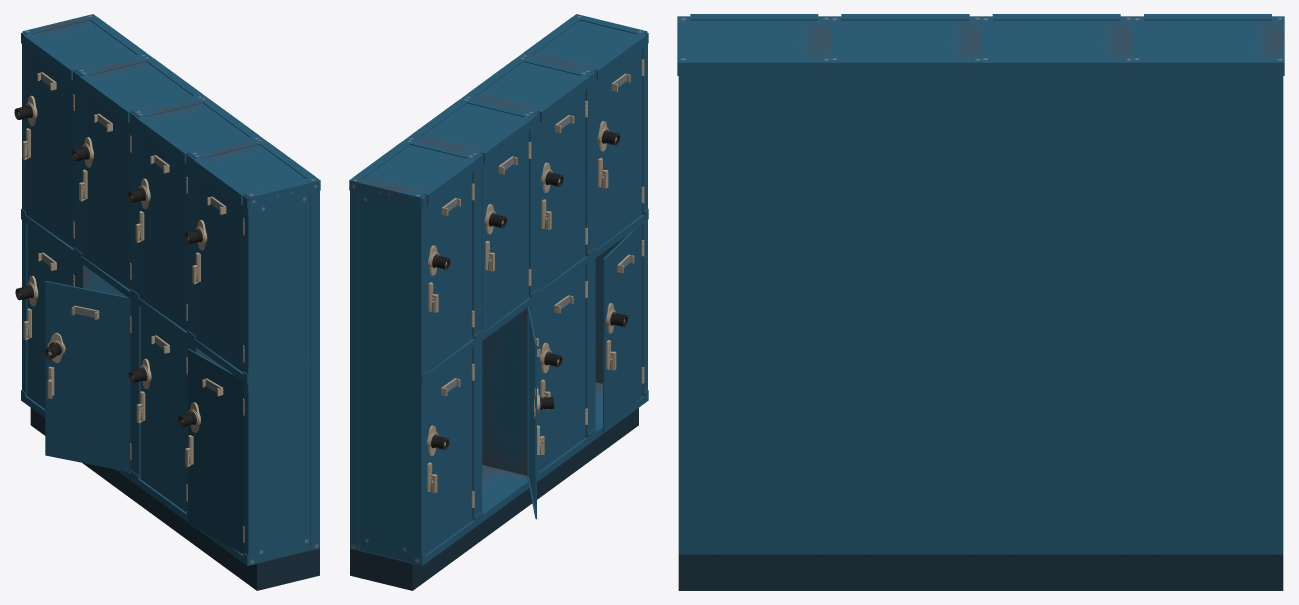
File: optimized_lockers.glb
The picture shows the model from 3 angles, left to right: view 1: azimuth 30°, elevation 25°; view 2: azimuth 150°, elevation 25°; view 3: azimuth 270°, elevation 25°; orthographic projection. The views are drawn at different scales.
Parts seen in each view (by area): view 1: Cube.109, Cylinder.022, Cylinder.036, Cylinder.017, Cylinder.029, Cylinder.005, Cube.092, Cube.111, Cube.100, Cylinder.018, Cube.101, Cube.098 (+33 smaller); view 2: Cube.033, Cylinder.018, Cylinder.017, Cylinder.029, Cylinder.005, Cube.111, Cube.092, Cylinder.036, Cube.071, Cube.024, Cube.027, Cube.023 (+34 smaller); view 3: Cube.091, Cube.072, Cube.035, Cube.110, Cube.027, Cube.101, Cube.082, Cube.026, Cube.063, Cube.064, Cube.083, Cube.102 (+20 smaller).
Part boxes in pixels (left/top/right/bottom): Cube.109: left=257, top=193, right=310, bottom=556; Cylinder.022: left=44, top=281, right=131, bottom=471; Cylinder.036: left=177, top=349, right=244, bottom=553; Cylinder.017: left=71, top=89, right=131, bottom=289; Cylinder.029: left=128, top=307, right=187, bottom=512; Cylinder.005: left=14, top=48, right=74, bottom=248; Cube.092: left=139, top=130, right=187, bottom=330; Cube.111: left=196, top=172, right=243, bottom=372; Cube.100: left=244, top=195, right=256, bottom=565; Cylinder.018: left=15, top=224, right=74, bottom=408; Cube.101: left=310, top=190, right=319, bottom=550; Cube.098: left=200, top=532, right=319, bottom=590; Cube.033: left=359, top=193, right=412, bottom=556; Cylinder.018: left=426, top=348, right=474, bottom=553; Cylinder.017: left=482, top=132, right=531, bottom=332; Cylinder.029: left=539, top=265, right=587, bottom=470; Cylinder.005: left=426, top=173, right=474, bottom=373; Cube.111: left=595, top=49, right=642, bottom=249; Cube.092: left=539, top=90, right=585, bottom=290; Cylinder.036: left=603, top=224, right=644, bottom=433; Cube.071: left=482, top=131, right=529, bottom=475; Cube.024: left=412, top=195, right=425, bottom=565; Cube.027: left=350, top=190, right=359, bottom=550; Cube.023: left=350, top=532, right=469, bottom=590; Cube.091: left=841, top=72, right=969, bottom=545; Cube.072: left=992, top=76, right=1120, bottom=545; Cube.035: left=1144, top=76, right=1271, bottom=545; Cube.110: left=690, top=76, right=817, bottom=545; Cube.027: left=1271, top=65, right=1283, bottom=554; Cube.101: left=678, top=65, right=690, bottom=554; Cube.082: left=829, top=65, right=841, bottom=554; Cube.026: left=1132, top=65, right=1143, bottom=554; Cube.063: left=981, top=65, right=992, bottom=554; Cube.064: left=1120, top=65, right=1131, bottom=554; Cube.083: left=969, top=65, right=980, bottom=554; Cube.102: left=818, top=65, right=829, bottom=554.
Size of the model in its own units: 1.01 by 3.01 by 3.13.
1 material, 1 textured.
